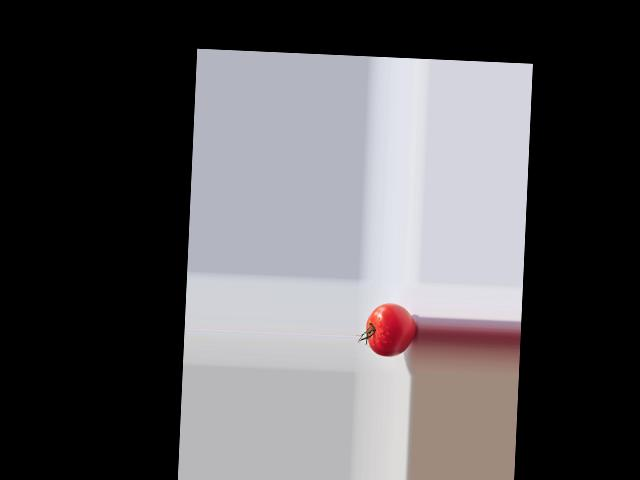tomato: (365, 302, 417, 357)
